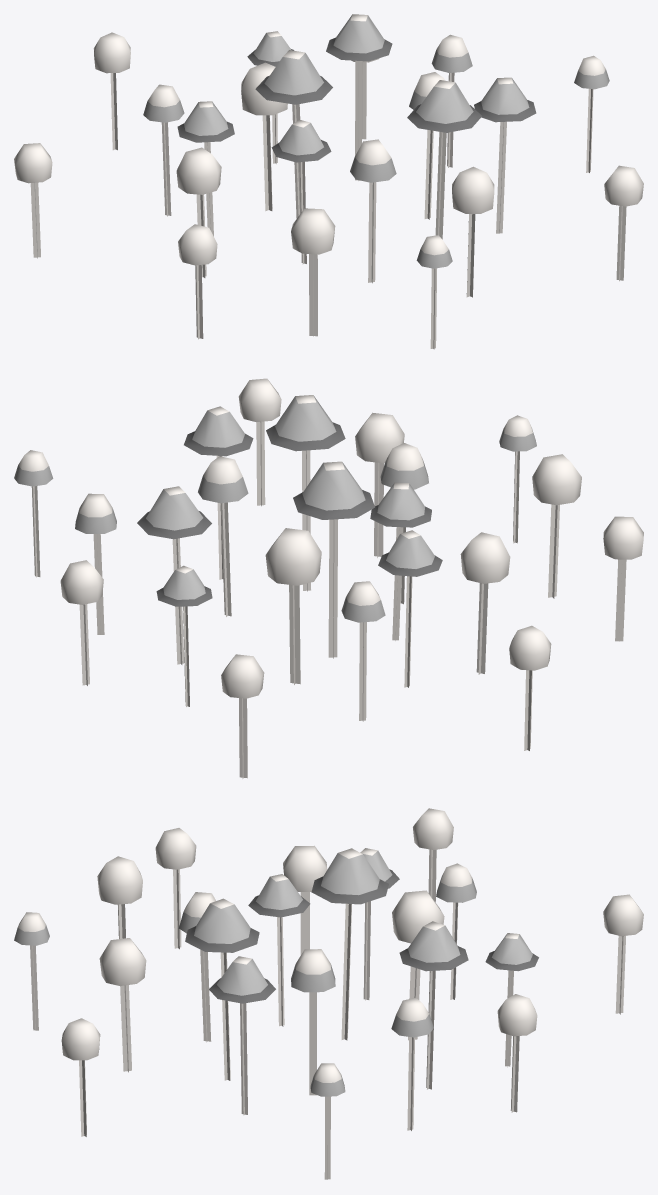
File: White_Mushrooms_Cluster_1.fbx
The picture shows the model from 3 angles, top to bottom: view 1: azimuth 30°, elevation 25°; view 2: azimuth 150°, elevation 25°; view 3: azimuth 270°, elevation 25°; orthographic projection. The views are drawn at different scales.
Parts seen in each view (by area): view 1: White_Mushrooms_Cluster_1; view 2: White_Mushrooms_Cluster_1; view 3: White_Mushrooms_Cluster_1.
Boxes of the visible parts, <box> form: White_Mushrooms_Cluster_1: <box>14,14,643,349</box>; White_Mushrooms_Cluster_1: <box>14,378,643,778</box>; White_Mushrooms_Cluster_1: <box>14,808,643,1179</box>.
Size of the model in its own units: 67.53 by 21.39 by 66.46.
1 material, 1 textured.
